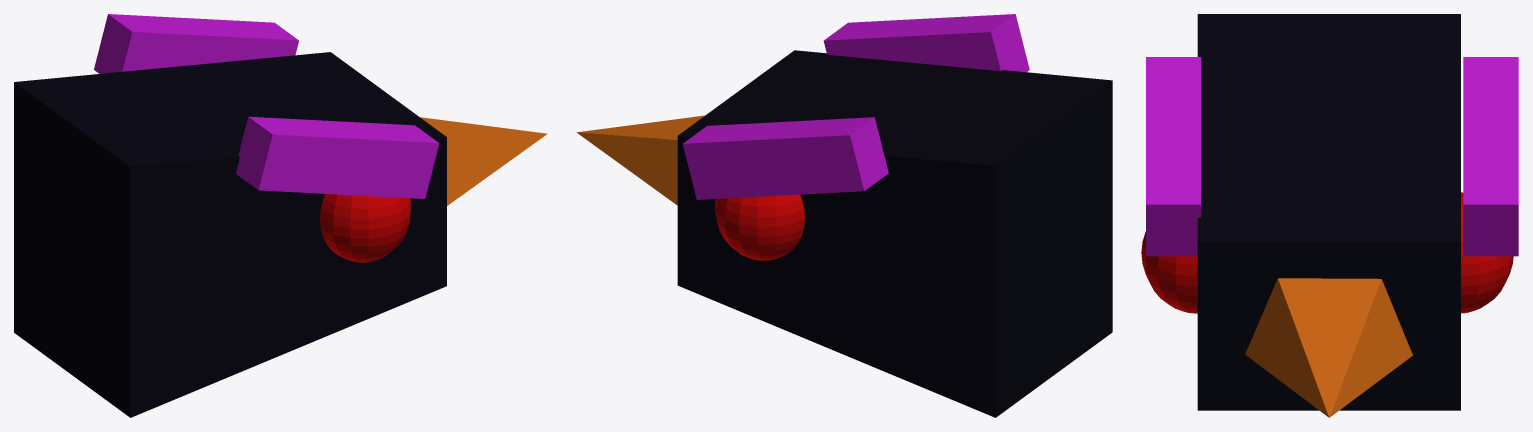
Rendered from Vogelmodel-diving-boos.obj.
The picture shows the model from 3 angles, left to right: view 1: azimuth 30°, elevation 25°; view 2: azimuth 150°, elevation 25°; view 3: azimuth 270°, elevation 25°; orthographic projection. The views are drawn at different scales.
Parts seen in each view (by area): view 1: Cube, Cube.002, Cube.001, Sphere.001, Cone; view 2: Cube, Cube.001, Cube.002, Sphere, Cone; view 3: Cube, Cone, Cube.001, Cube.002, Sphere.001, Sphere.
Boxes of the visible parts, box(x1,y1,x2,y2) form: Cube: box(14, 52, 446, 417); Cube.002: box(236, 116, 439, 198); Cube.001: box(94, 14, 298, 73); Sphere.001: box(320, 194, 411, 262); Cone: box(420, 117, 547, 205); Cube: box(677, 50, 1112, 417); Cube.001: box(682, 117, 888, 199); Cube.002: box(823, 14, 1029, 72); Sphere: box(715, 194, 804, 260); Cone: box(576, 115, 704, 205); Cube: box(1197, 14, 1460, 410); Cone: box(1245, 278, 1412, 417); Cube.001: box(1463, 57, 1518, 256); Cube.002: box(1146, 57, 1201, 256); Sphere.001: box(1141, 231, 1197, 313); Sphere: box(1461, 192, 1513, 313).
Size of the model in its own units: 1.18 by 0.6419 by 0.716.
